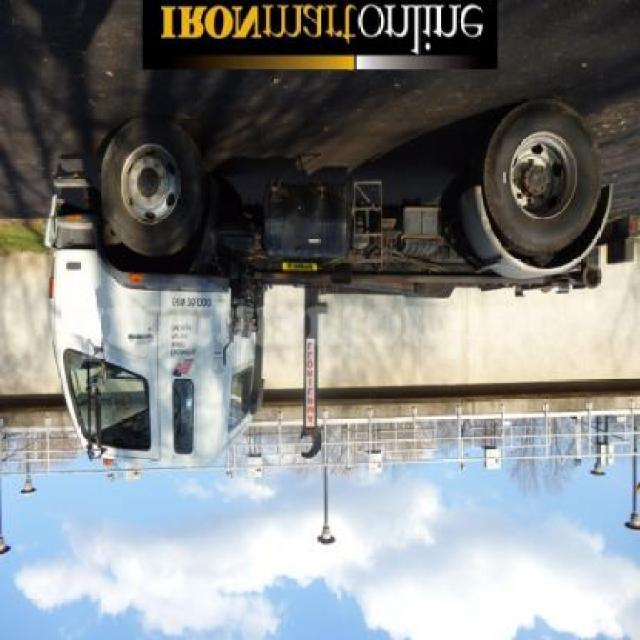truck: (41, 97, 615, 471)
